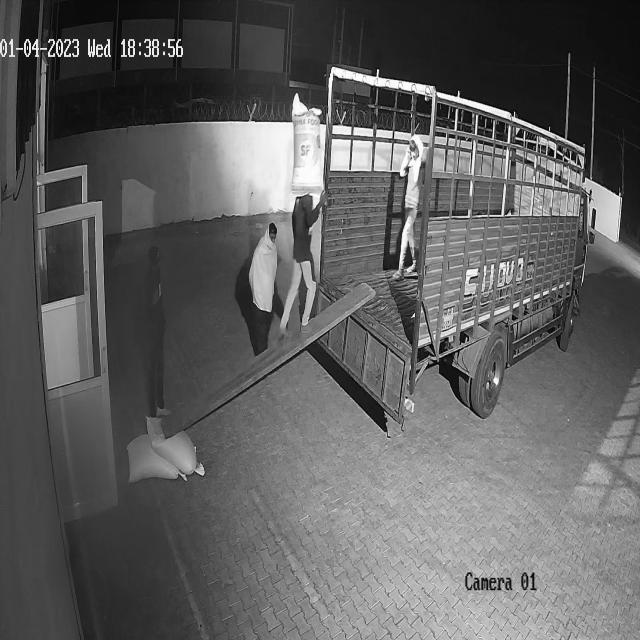sack: (290, 93, 323, 197), (145, 418, 203, 476), (127, 434, 185, 481)
